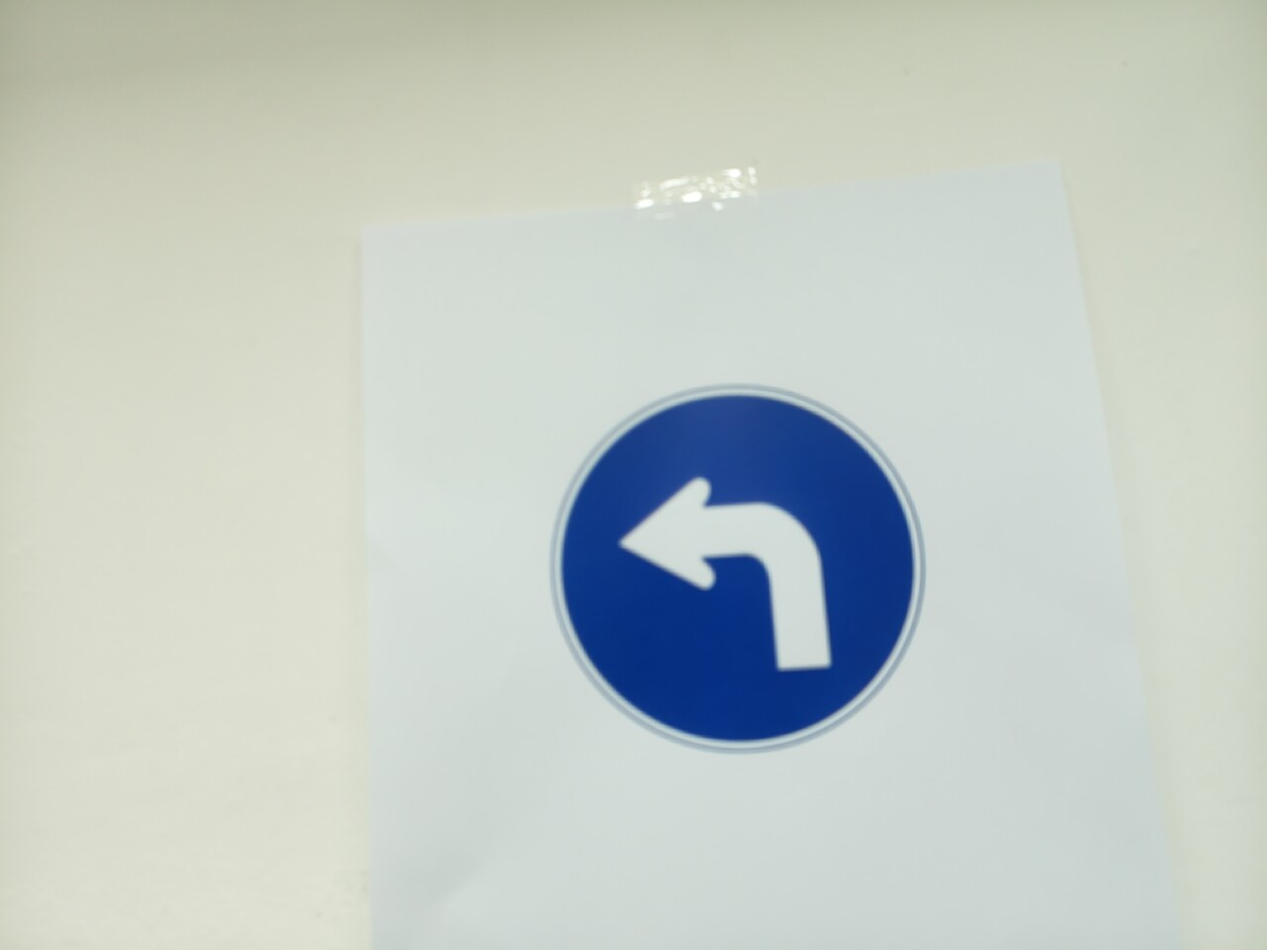left_turn: (550, 384, 925, 753)
